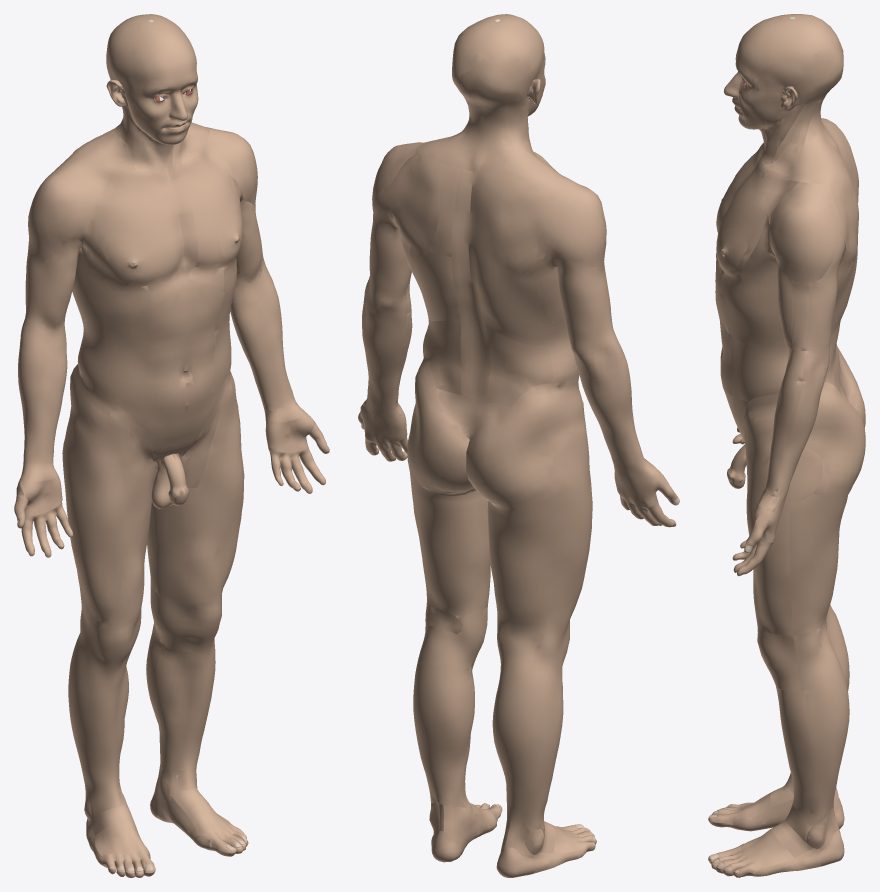
The model's file is anatomy.glb.
3 renders of one model, left to right at view 1: azimuth 30°, elevation 25°; view 2: azimuth 150°, elevation 25°; view 3: azimuth 270°, elevation 25°, orthographic.
Visible parts, largest first — view 1: Anterior region of thigh.r, Anterior region of thigh.l, Anterior region of leg.l, Anterior region of leg.r, Pectoral region.r, Deltoid region.r, Anterior region of forearm.l, Anterior region of forearm.r, Lateral region of thorax.r, Lateral region of abdomen.r, Pectoral region.l, Anterior region of knee.l (+48 smaller); view 2: Posterior region of thigh.r, Gluteal region.r, Posterior region of thigh.l, Posterior region of leg.r, Posterior region of leg.l, Gluteal region.l, Scapular region.r, Posterior region of arm.r, Infrascapular region.r, Scapular region.l, Posterior region of forearm.r, Vertebral region.l (+35 smaller); view 3: Anterior region of thigh.l, Posterior region of thigh.l, Deltoid region.l, Gluteal region.l, Posterior region of leg.l, Lateral region of thorax.l, Parietal region.l, Anterior region of leg.l, Lateral region of abdomen.l, Pectoral region.l, Posterior region of arm.l, Posterior region of neck.l (+49 smaller).
Boxes of the visible parts, <box> form: Anterior region of thigh.r: <box>69,368,156,624</box>; Anterior region of thigh.l: <box>151,368,244,603</box>; Anterior region of leg.l: <box>155,643,215,770</box>; Anterior region of leg.r: <box>75,663,128,789</box>; Pectoral region.r: <box>95,187,176,286</box>; Deltoid region.r: <box>28,155,91,255</box>; Anterior region of forearm.l: <box>231,288,295,410</box>; Anterior region of forearm.r: <box>21,344,67,467</box>; Lateral region of thorax.r: <box>72,207,149,318</box>; Lateral region of abdomen.r: <box>77,327,148,407</box>; Pectoral region.l: <box>185,161,241,268</box>; Anterior region of knee.l: <box>156,593,221,653</box>; Posterior region of thigh.r: <box>487,486,584,632</box>; Gluteal region.r: <box>466,382,572,509</box>; Posterior region of thigh.l: <box>408,462,490,615</box>; Posterior region of leg.r: <box>492,680,559,822</box>; Posterior region of leg.l: <box>413,659,472,805</box>; Gluteal region.l: <box>407,351,474,492</box>; Scapular region.r: <box>490,181,563,277</box>; Posterior region of arm.r: <box>548,232,611,339</box>; Infrascapular region.r: <box>479,264,550,345</box>; Scapular region.l: <box>383,154,440,256</box>; Posterior region of forearm.r: <box>575,359,645,466</box>; Vertebral region.l: <box>451,169,477,398</box>; Anterior region of thigh.l: <box>743,393,793,635</box>; Posterior region of thigh.l: <box>789,494,847,635</box>; Deltoid region.l: <box>769,182,840,282</box>; Gluteal region.l: <box>804,382,865,497</box>; Posterior region of leg.l: <box>804,668,849,813</box>; Lateral region of thorax.l: <box>720,214,852,329</box>; Parietal region.l: <box>768,18,843,84</box>; Anterior region of leg.l: <box>776,686,812,813</box>; Lateral region of abdomen.l: <box>729,333,788,401</box>; Pectoral region.l: <box>716,181,775,276</box>; Posterior region of arm.l: <box>805,233,845,350</box>; Posterior region of neck.l: <box>791,96,841,183</box>.
Size of the model in its own units: 0.7161 by 1.8 by 0.3095.
